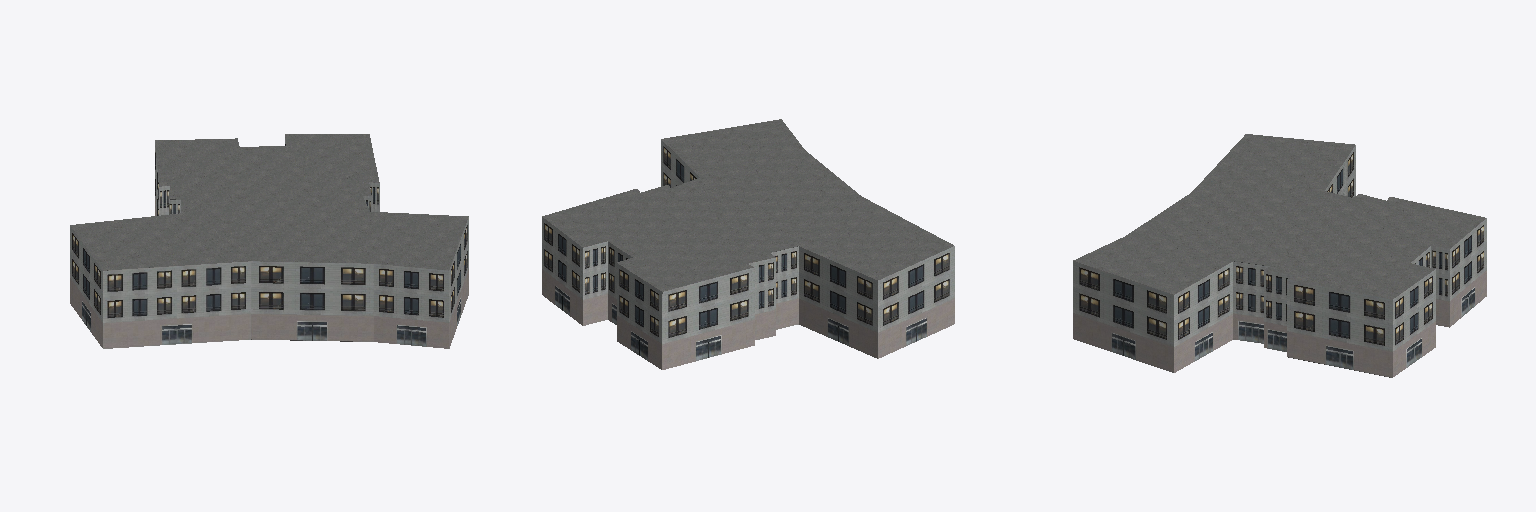
The picture shows the model from 3 angles: view 1: azimuth 30°, elevation 25°; view 2: azimuth 150°, elevation 25°; view 3: azimuth 270°, elevation 25°; orthographic projection.
Visible parts, largest first — view 1: BuildingMaster_[number redacted]_1, BuildingMaster_[number redacted]_0; view 2: BuildingMaster_[number redacted]_1, BuildingMaster_[number redacted]_0; view 3: BuildingMaster_[number redacted]_1, BuildingMaster_[number redacted]_0.
Boxes of the visible parts, box(x1,y1,x2,y2) form: BuildingMaster_[number redacted]_1: box(70, 134, 468, 270); BuildingMaster_[number redacted]_0: box(70, 140, 468, 348); BuildingMaster_[number redacted]_1: box(542, 119, 953, 291); BuildingMaster_[number redacted]_0: box(542, 140, 954, 369); BuildingMaster_[number redacted]_1: box(1073, 134, 1485, 299); BuildingMaster_[number redacted]_0: box(1073, 145, 1486, 377).
Bounding box in the file's own units: 47.64 × 10.5 × 50.23.
Materials: 2 (2 with a texture image).